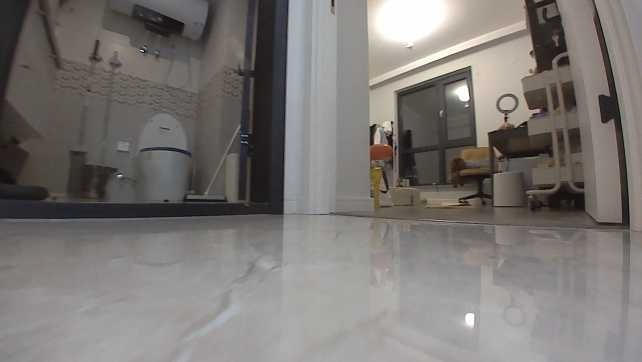door_sill: (0, 197, 254, 217)
toilet: (135, 111, 193, 203)
